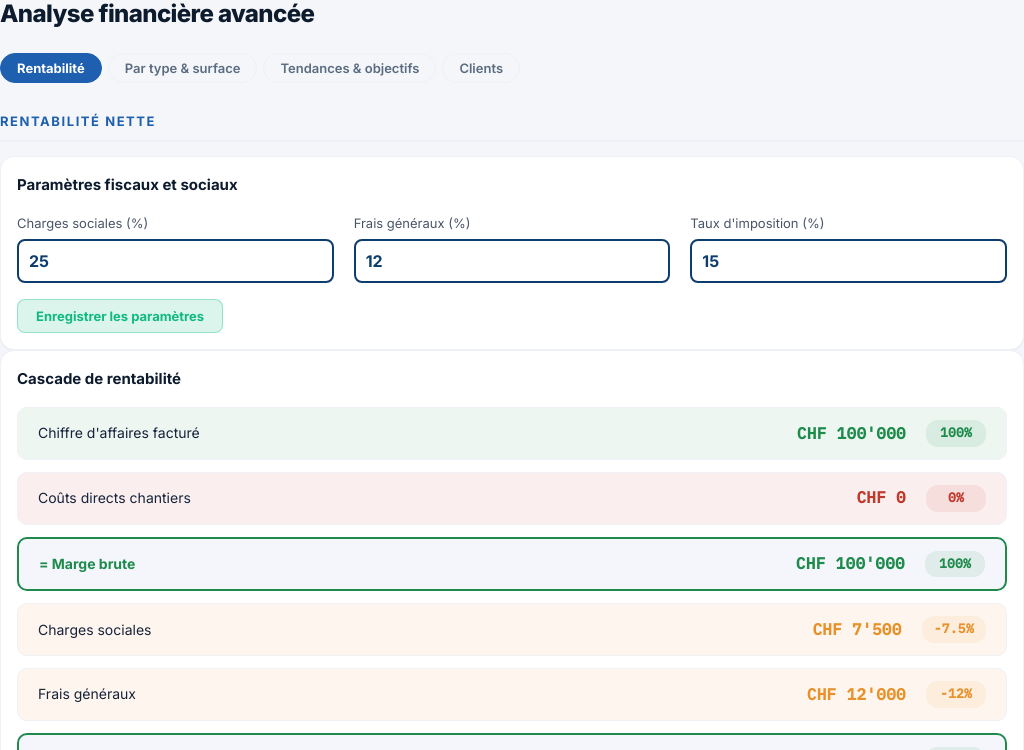
CORPS DE MÉTIER — en-tête « CA facturé/m² » + ISOLATION du bloc m² › Corps de métier passe en facturé ; « Analyse m² » reste sur le DEVISÉ (162'000)
Step 1. Click the button "Par type & surface" → (183, 68), box [108,53,257,83]
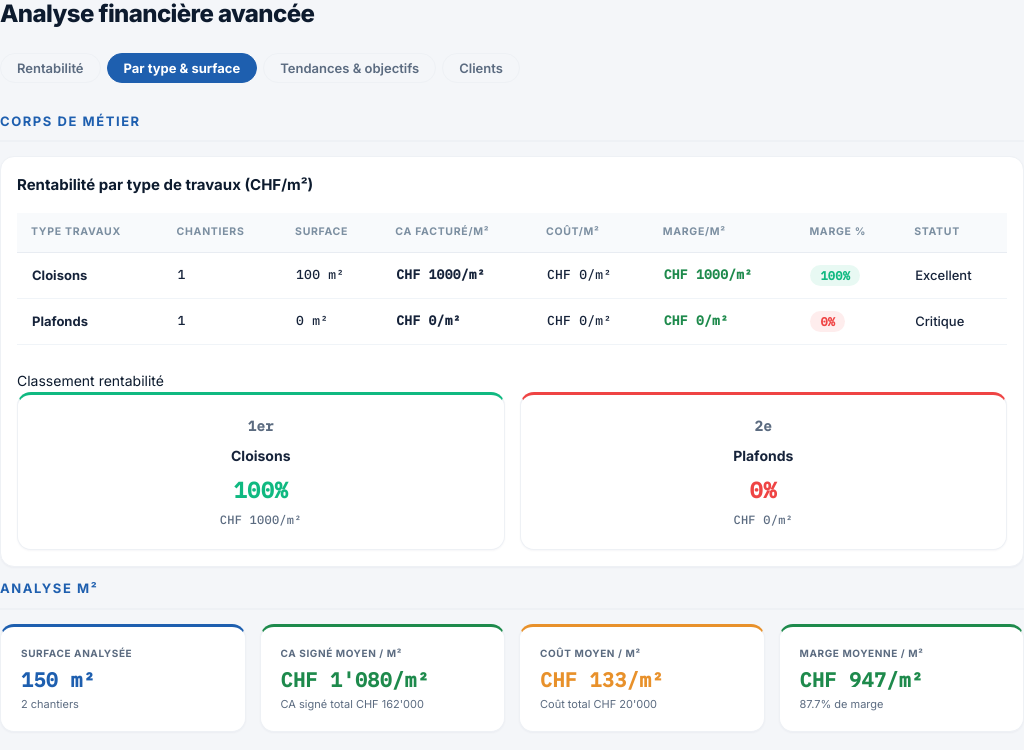
Expected: the column heading "CA facturé/m²" is shown, [381,213,532,252]
Expected: the text "CA signé moyen / m²" is shown, [280,646,402,658]
Expected: the text "CA signé total CHF 162'000" is shown, [280,696,424,710]
